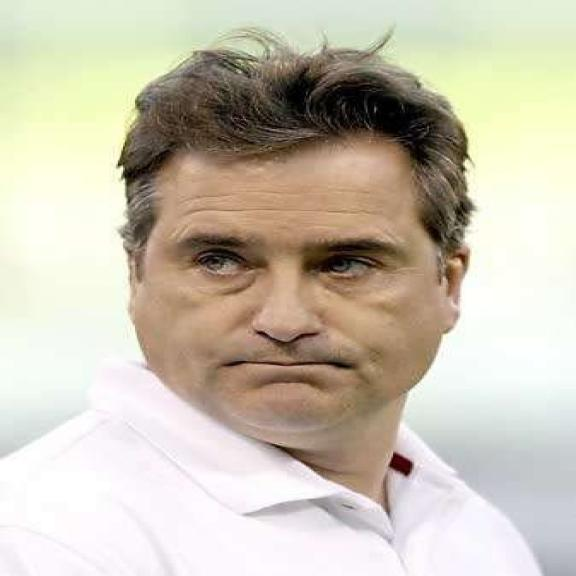face: (114, 124, 473, 438)
